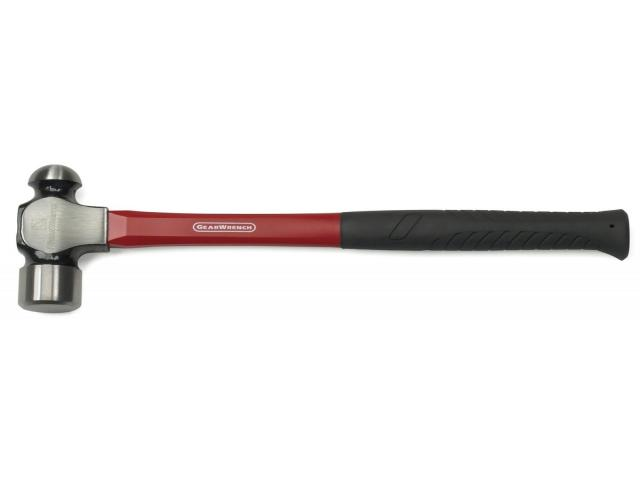hammer: (17, 160, 627, 317)
